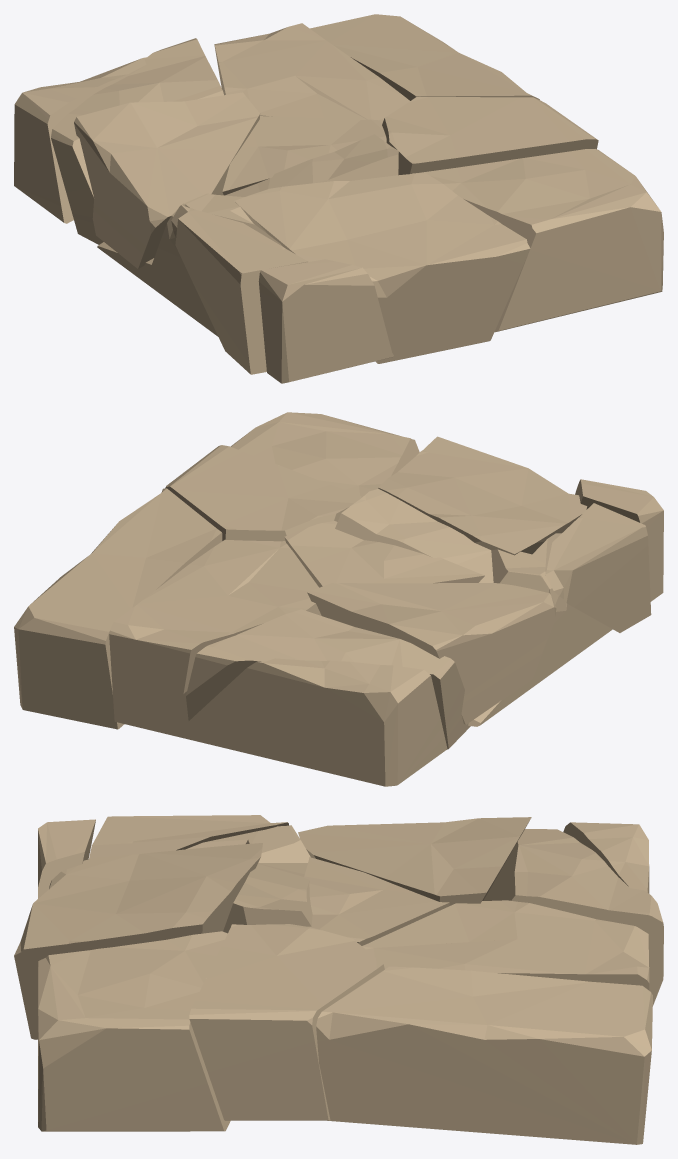
File: SM_stair_debris_01.fbx
3 renders of one model, top to bottom at view 1: azimuth 30°, elevation 25°; view 2: azimuth 150°, elevation 25°; view 3: azimuth 270°, elevation 25°, orthographic. The views are drawn at different scales.
Parts seen in each view (by area): view 1: stair_debris_01; view 2: stair_debris_01; view 3: stair_debris_01.
Part boxes in pixels (x1=…): stair_debris_01: x1=14, y1=14, x2=663, y2=383; stair_debris_01: x1=14, y1=412, x2=663, y2=786; stair_debris_01: x1=14, y1=815, x2=663, y2=1144.
Bounding box in the file's own units: 415 × 131 × 527.
